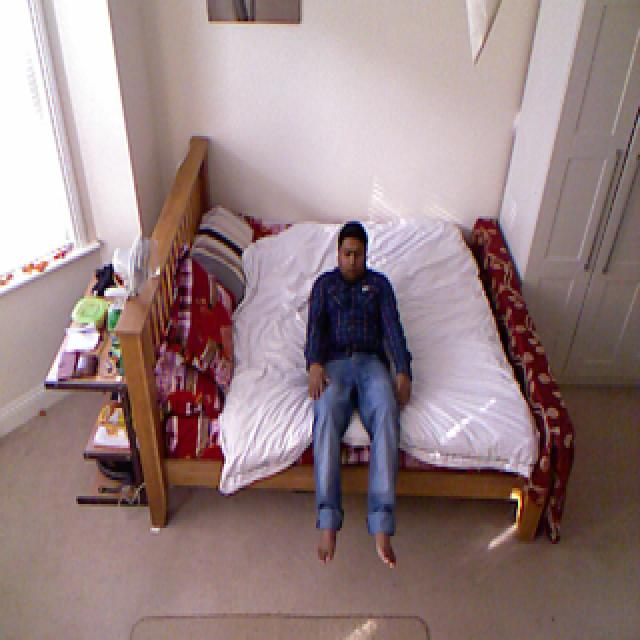sitting: (301, 223, 415, 568)
